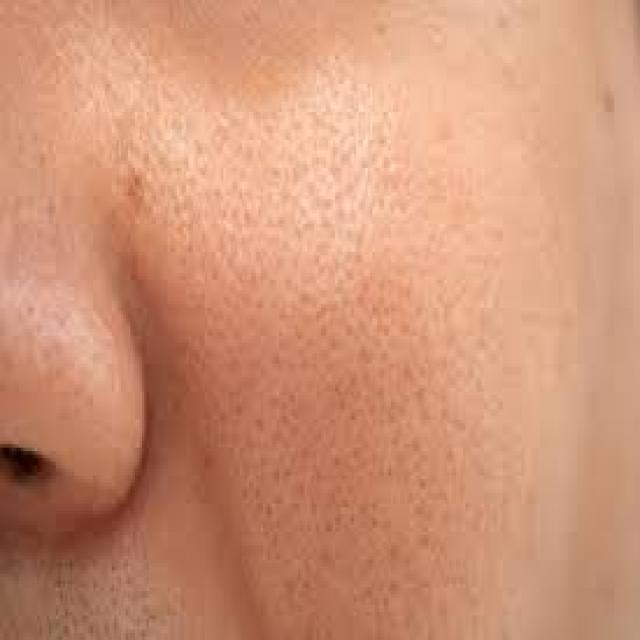Englarged-Pores: (103, 122, 384, 557)
